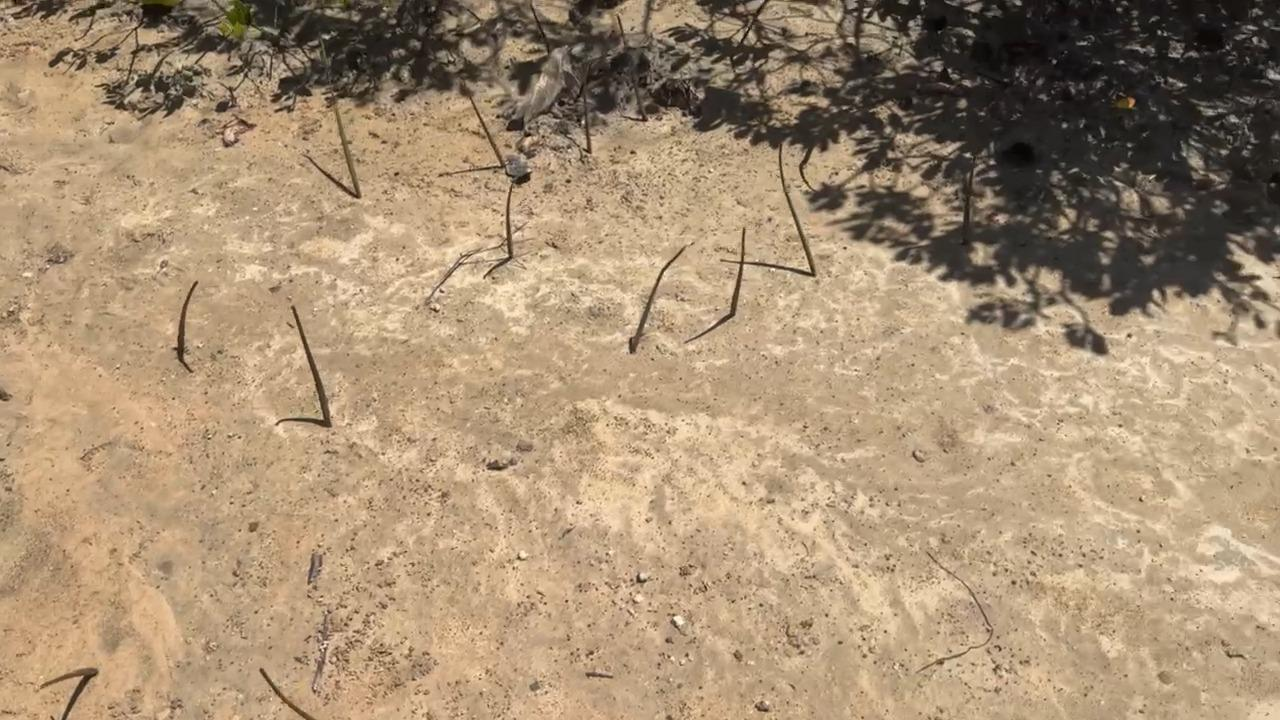Tree: (318, 35, 362, 199), (633, 244, 688, 351), (777, 142, 818, 277), (289, 305, 333, 428), (462, 80, 507, 169), (615, 12, 649, 122), (259, 666, 315, 720), (175, 280, 200, 362), (727, 225, 747, 318), (961, 150, 978, 246), (39, 666, 99, 692), (580, 60, 594, 155), (529, 2, 552, 54), (504, 182, 515, 261)
